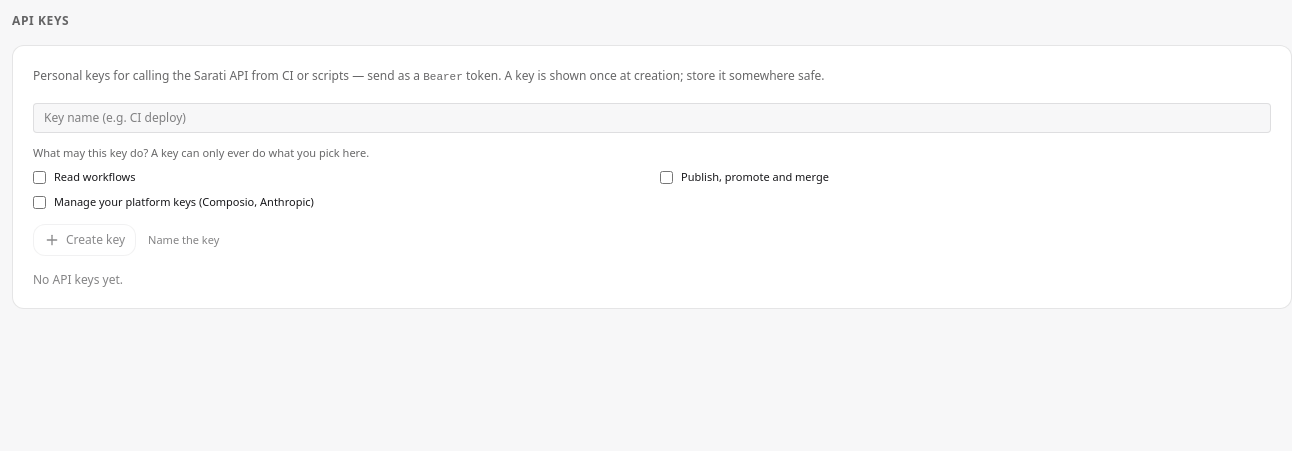
ApiKeysSettings › sends exactly the scopes that were ticked
Expected: the checkbox labelled "Read workflows" is shown, [33,171,46,184]
Type "CI deploy" into the field labelled "Key name" at (652, 118), box [33,103,1271,133]
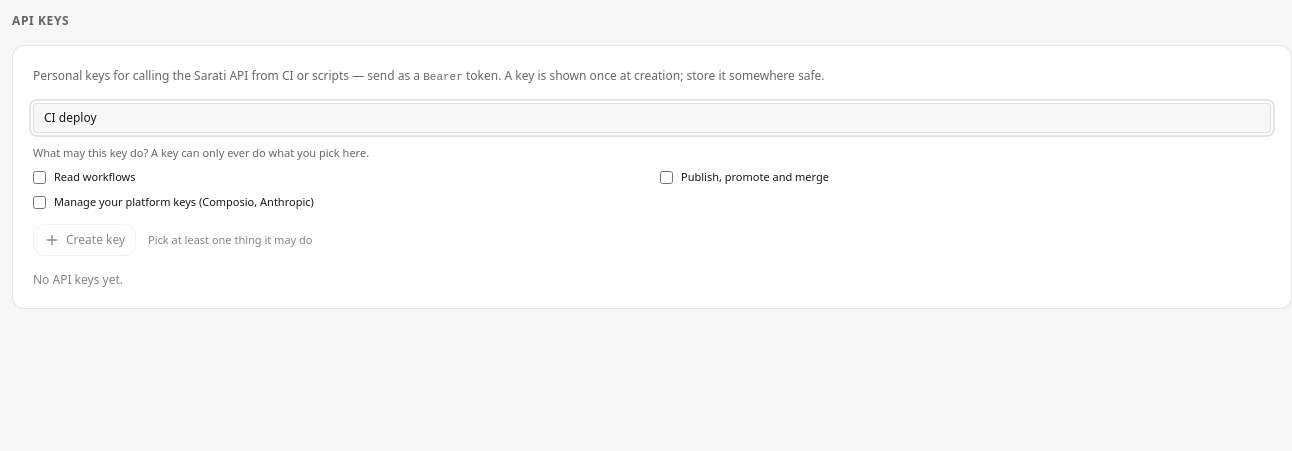
Click the checkbox labelled "Read workflows" at (40, 178), box [33,171,46,184]
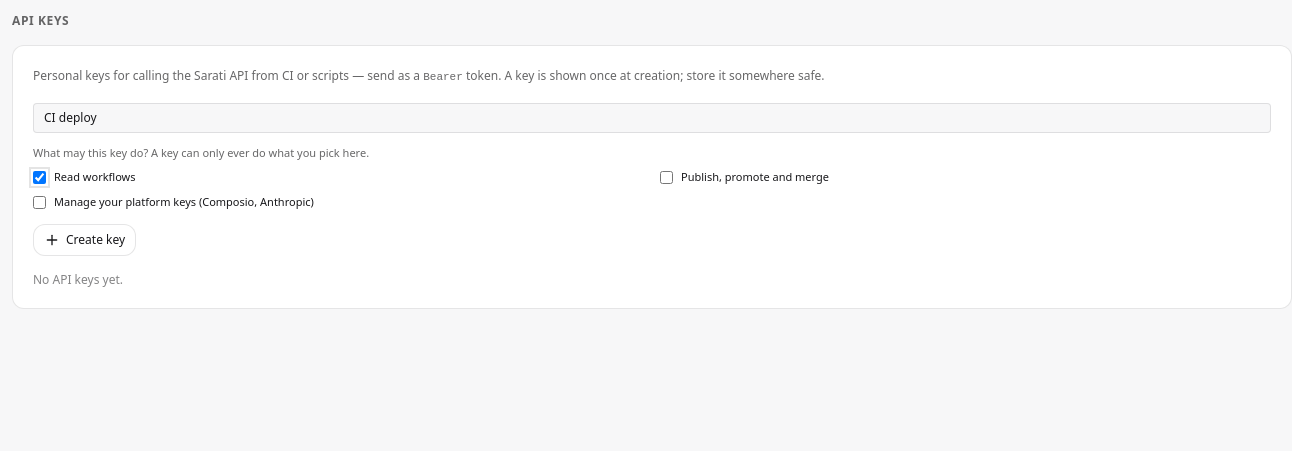
Click the checkbox labelled "Publish, promote and merge" at (666, 178), box [660,171,673,184]
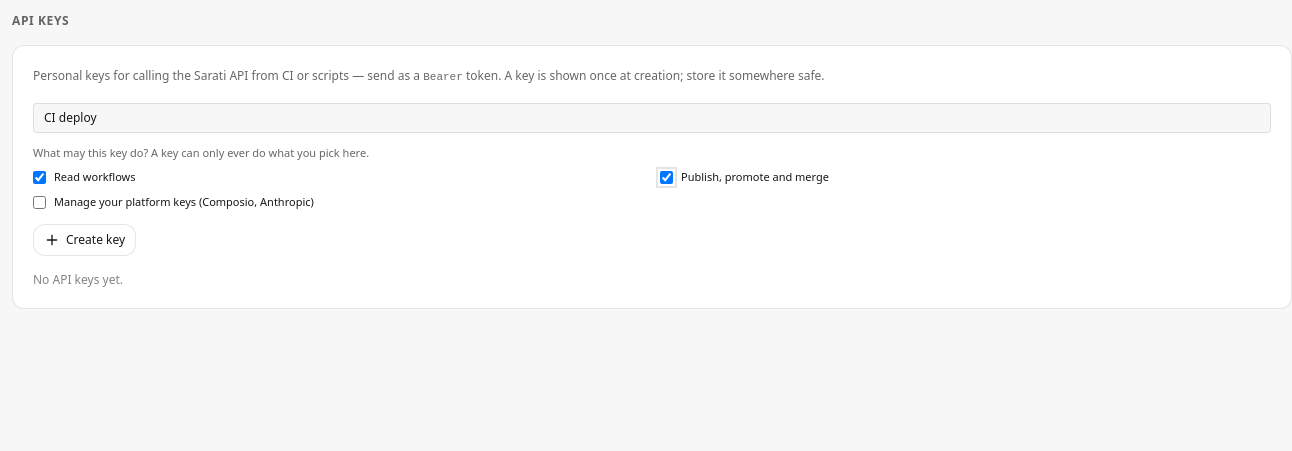
Click the button "Create key" at (85, 240), box [33,224,136,256]
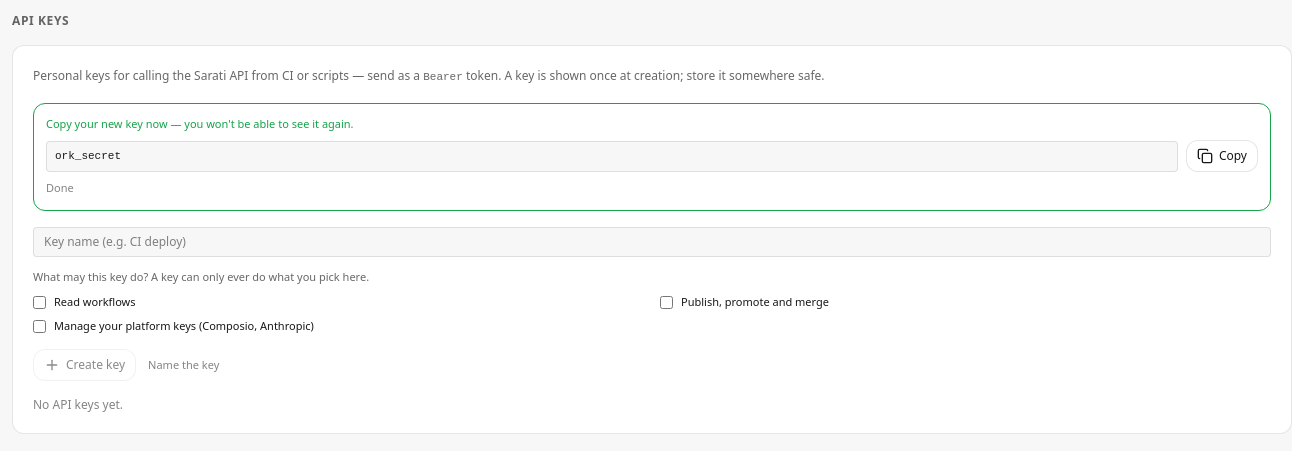
Expected: the text "ork_secret" is shown, [46,141,1178,172]
